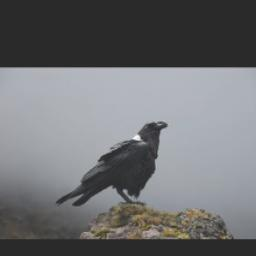Crow: (52, 117, 169, 211)
